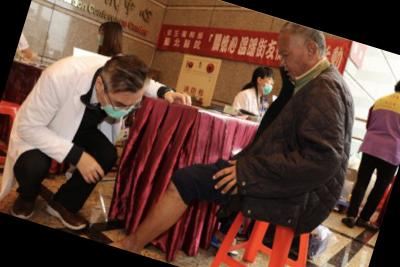with_mask: (96, 86, 143, 125), (258, 75, 276, 97), (94, 30, 109, 48)
without_mask: (269, 45, 312, 85)
